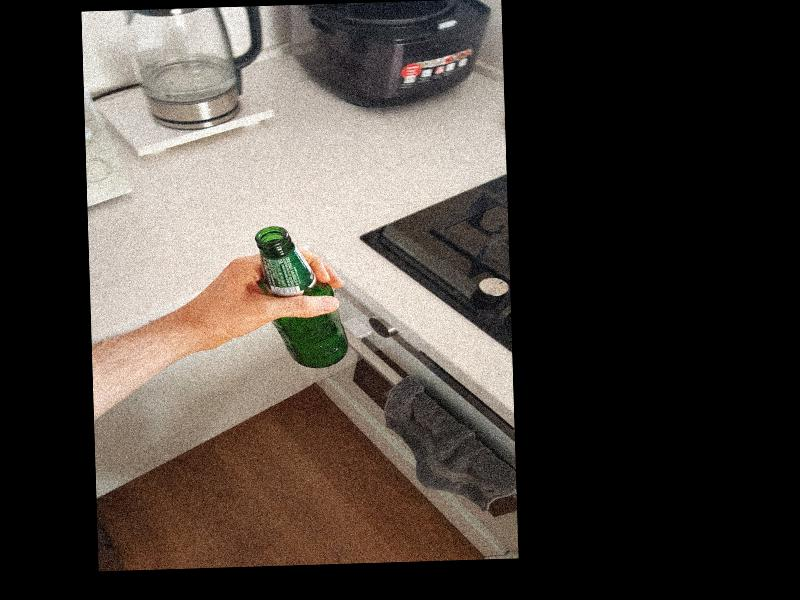Beer: (254, 225, 349, 371)
